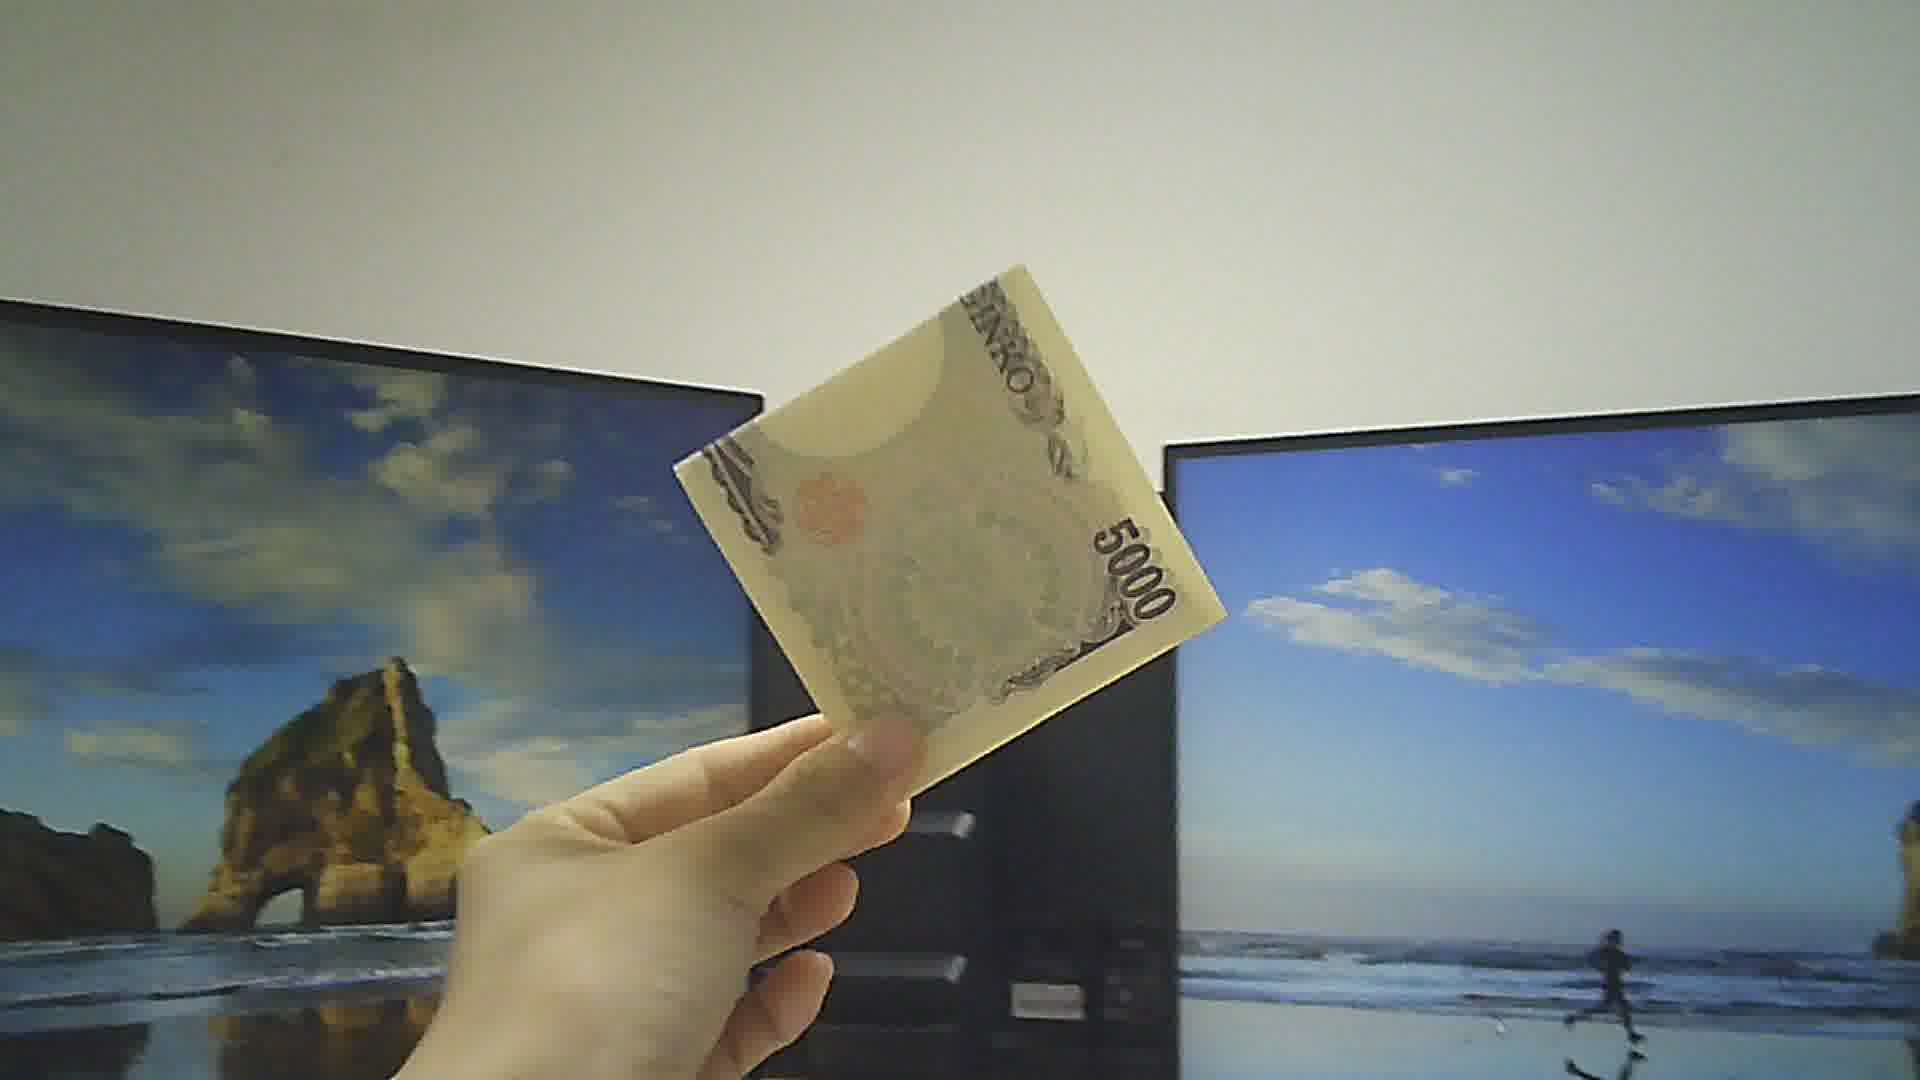5,000 Yen: (661, 245, 1234, 828)
